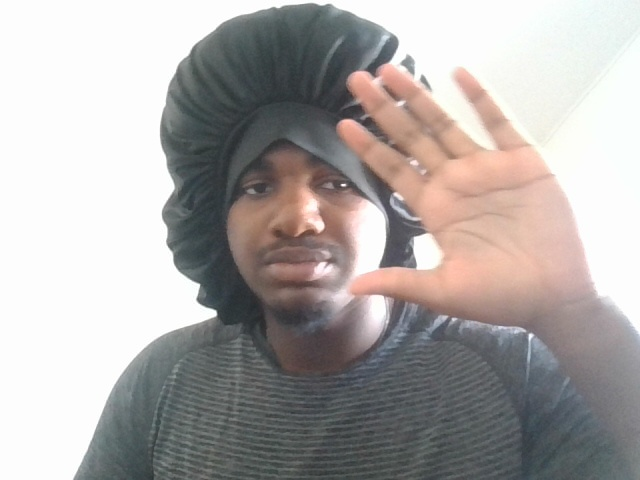Hello: (343, 56, 606, 339)
